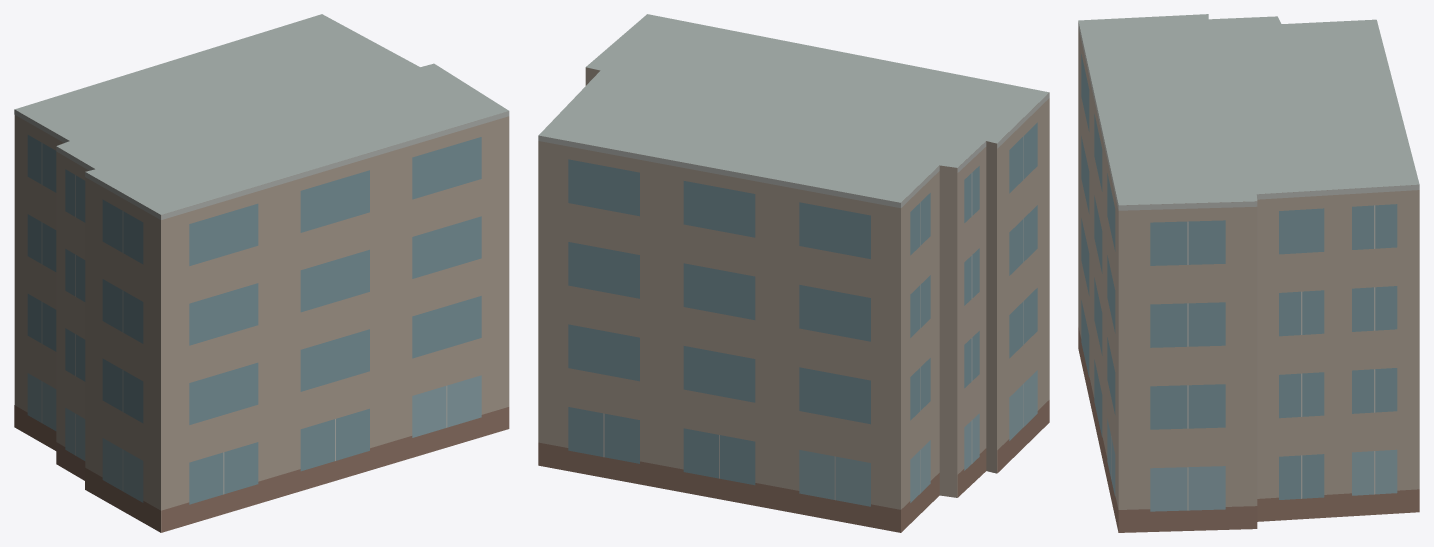
The model's file is survey-upis-32757033.glb.
3 views of the same model, side by side, from view 1: azimuth 30°, elevation 25°; view 2: azimuth 150°, elevation 25°; view 3: azimuth 270°, elevation 25° (orthographic). The views are drawn at different scales.
Visible parts, largest first — view 1: survey-upis-32757033.tmp; view 2: survey-upis-32757033.tmp; view 3: survey-upis-32757033.tmp.
Boxes of the visible parts, <box> form: survey-upis-32757033.tmp: <box>14,14,509,532</box>; survey-upis-32757033.tmp: <box>538,14,1049,532</box>; survey-upis-32757033.tmp: <box>1078,14,1419,532</box>.
Size of the model in its own units: 18.55 by 14.8 by 13.99.
